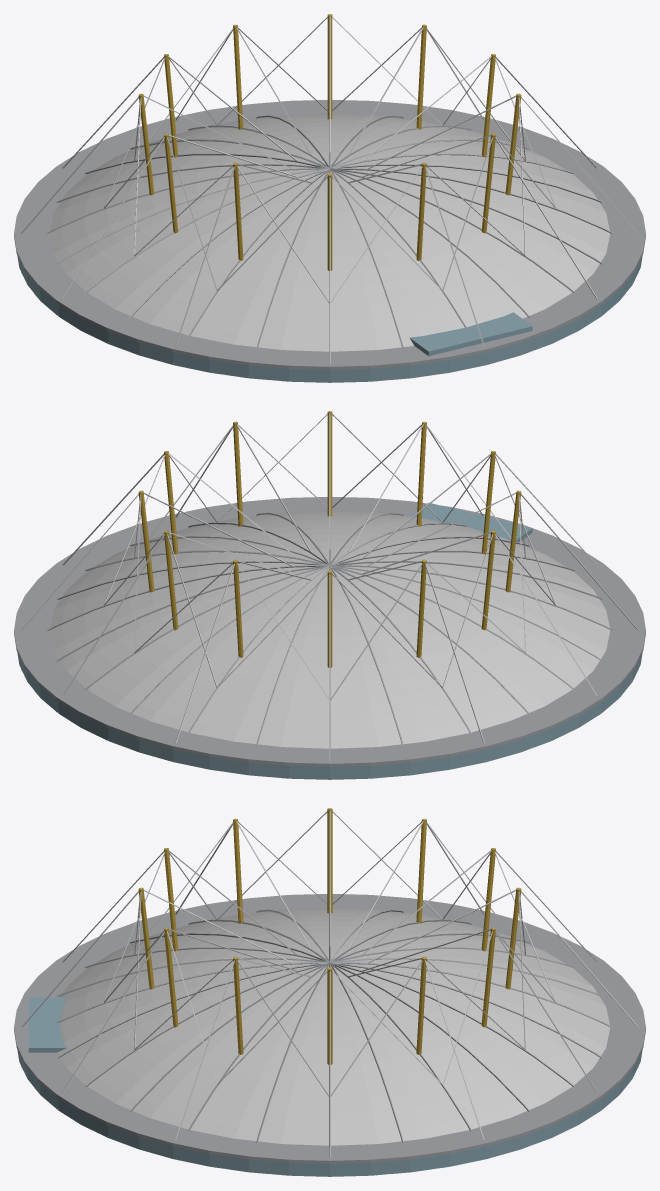
File: millennium_dome.glb
3 views of the same model, one above another, from view 1: azimuth 30°, elevation 25°; view 2: azimuth 150°, elevation 25°; view 3: azimuth 270°, elevation 25° (orthographic).
Parts seen in each view (by area): view 1: millennium_dome; view 2: millennium_dome; view 3: millennium_dome.
Boxes of the visible parts, <box> form: millennium_dome: <box>14,14,645,382</box>; millennium_dome: <box>14,411,645,779</box>; millennium_dome: <box>14,808,645,1176</box>.
Bounding box in the file's own units: 368 × 101 × 368.
